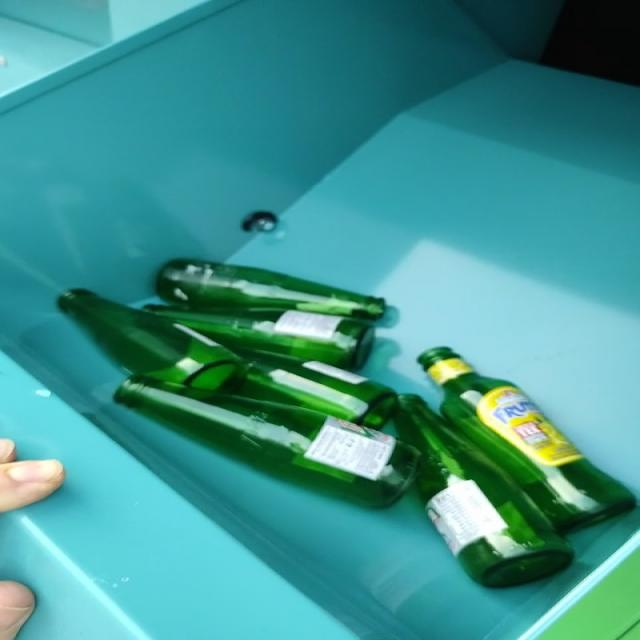glass: (57, 260, 637, 588)
